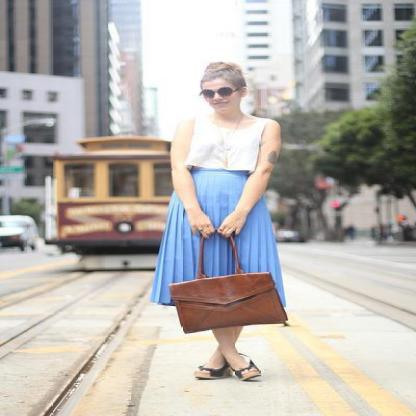bag: (162, 225, 289, 337)
shirt: (148, 165, 286, 304)
shoe: (196, 358, 262, 381)
sunglass: (200, 87, 231, 104)
